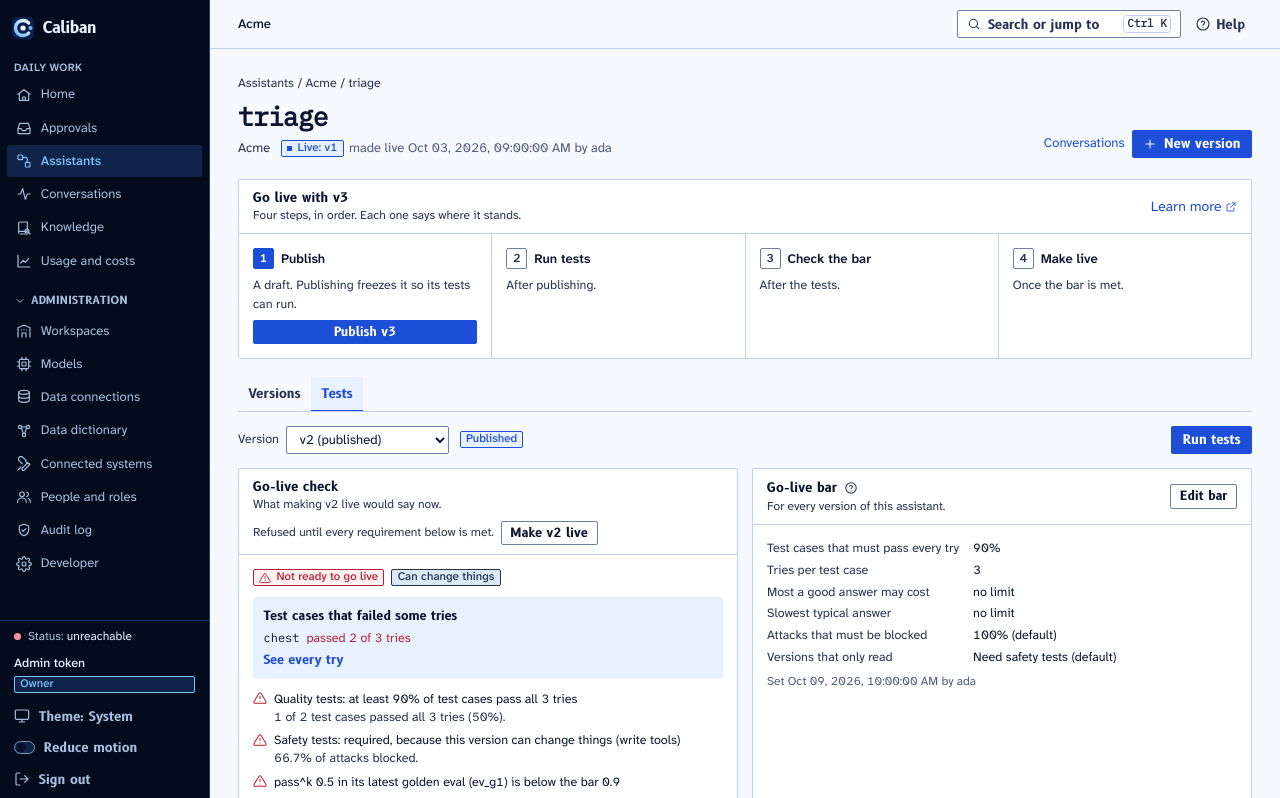
Test: Node evals › shows the gate's 422 reasons when making a version live
This screenshot has width=1280, height=798.
Click the button "Make v2 live": (549, 533) [501, 520, 598, 545]
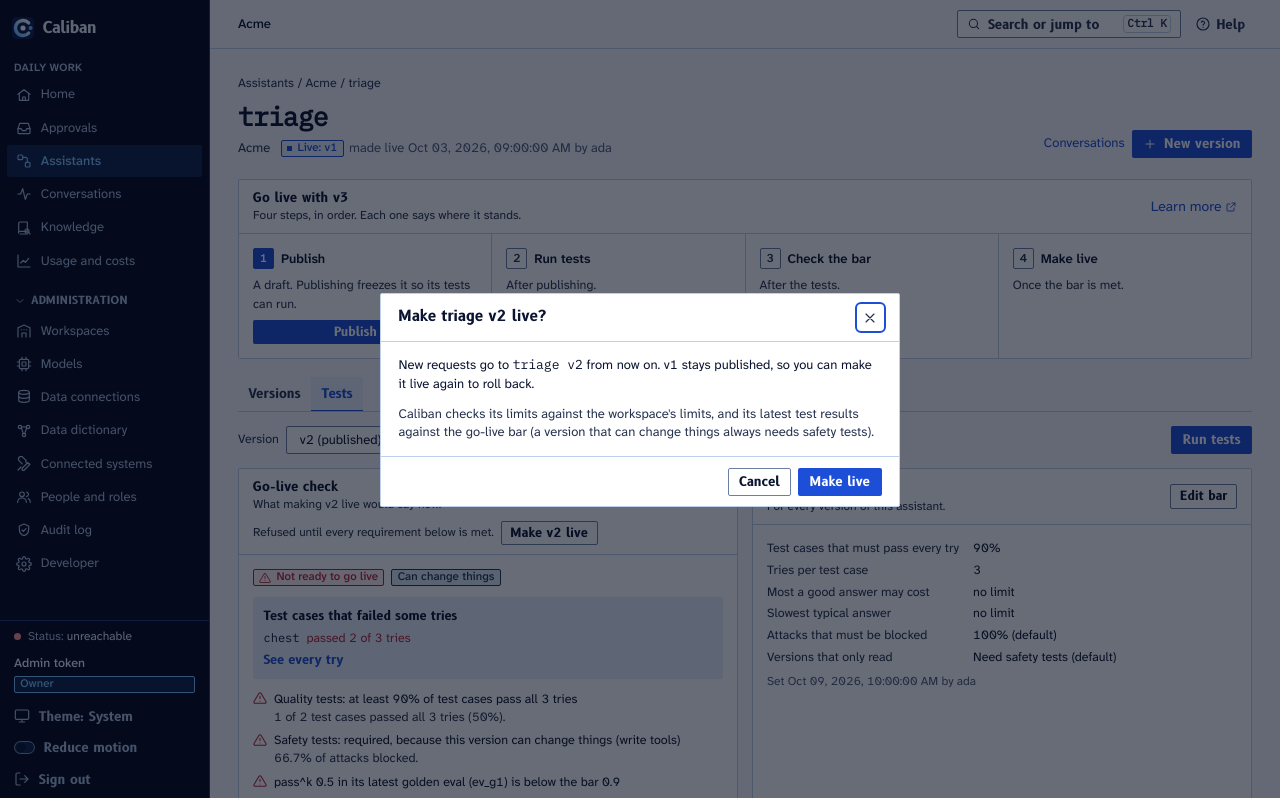
Click the button "Make live": (840, 482) [798, 468, 882, 496]
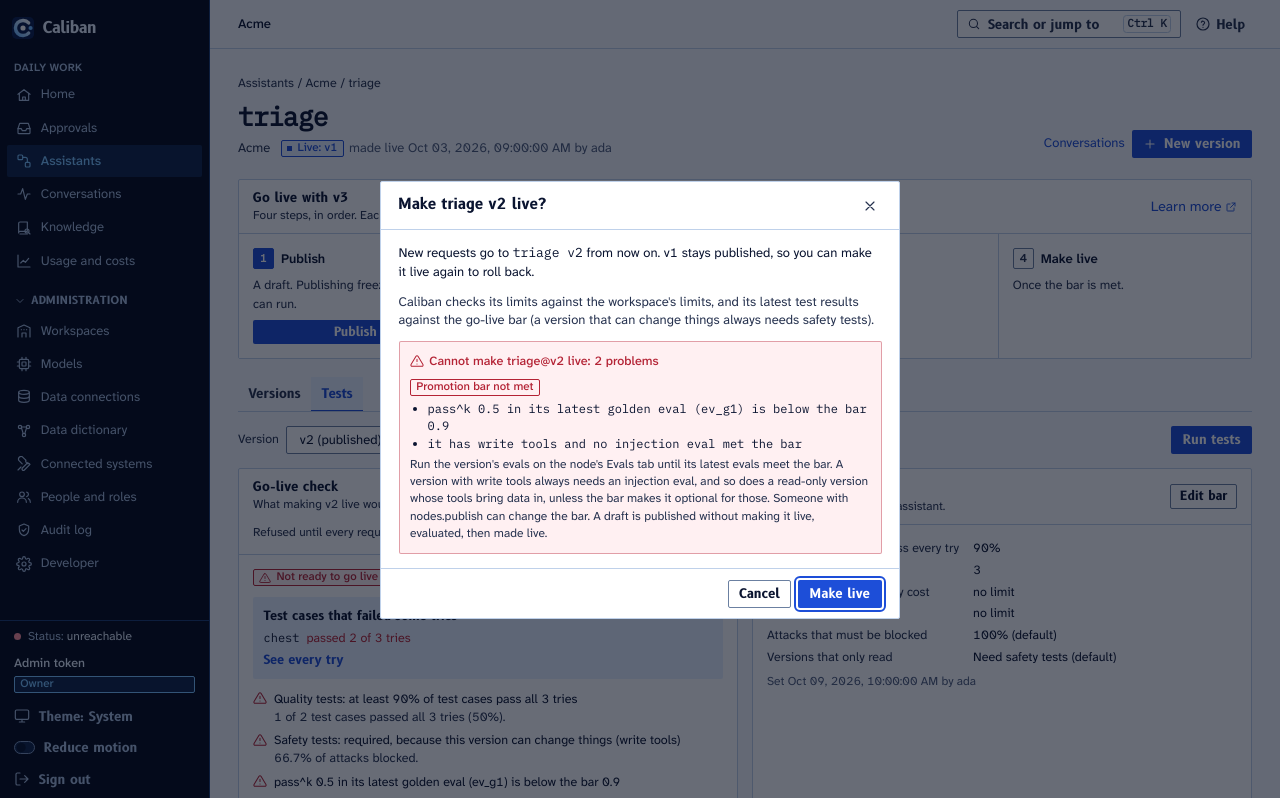
Now the message shows "Cannot make triage@v2 live: 2 problems", box [398, 341, 882, 554]
Now the message shows "Promotion bar not met", box [416, 379, 534, 394]
Now the message shows "it has write tools and no injection eval met the bar", box [428, 436, 802, 451]
